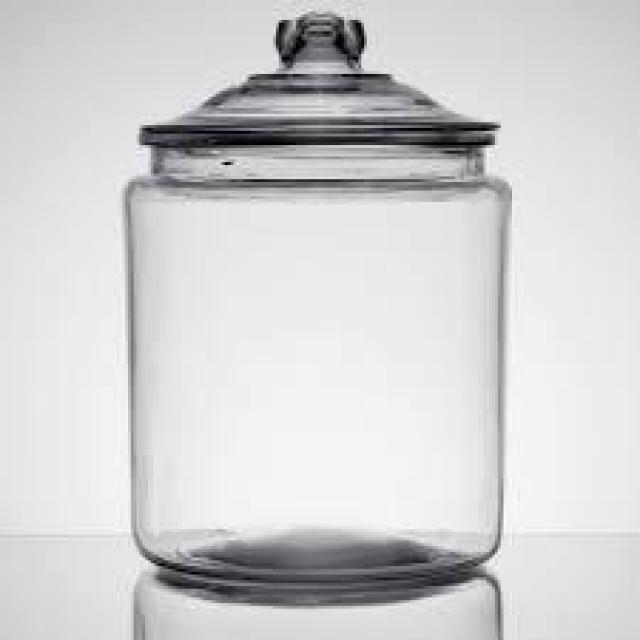Glass: (125, 10, 512, 593)
